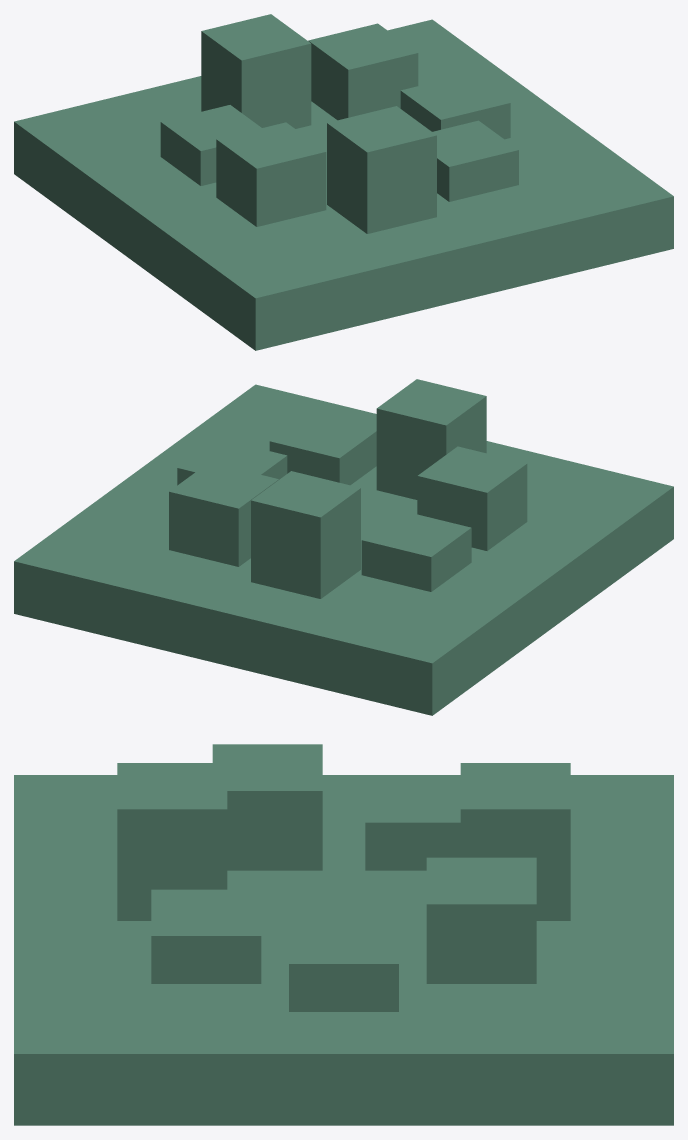
File: boreal_forest.glb
The picture shows the model from 3 angles, top to bottom: view 1: azimuth 30°, elevation 25°; view 2: azimuth 150°, elevation 25°; view 3: azimuth 270°, elevation 25°; orthographic projection. The views are drawn at different scales.
Parts seen in each view (by area): view 1: boreal_forest base, boreal_forest relief.006, boreal_forest relief.003, boreal_forest relief.005, boreal_forest relief.002, boreal_forest relief, boreal_forest relief.001, boreal_forest relief.004; view 2: boreal_forest base, boreal_forest relief.003, boreal_forest relief.006, boreal_forest relief.005, boreal_forest relief.002, boreal_forest relief.004, boreal_forest relief, boreal_forest relief.001; view 3: boreal_forest base, boreal_forest relief.006, boreal_forest relief.002, boreal_forest relief.003, boreal_forest relief.005, boreal_forest relief, boreal_forest relief.001, boreal_forest relief.004.
Part boxes in pixels (x1,y1,x2,y2): boreal_forest base: (14,19,673,350); boreal_forest relief.006: (327,106,436,233); boreal_forest relief.003: (201,14,311,128); boreal_forest relief.005: (216,122,326,226); boreal_forest relief.002: (308,23,418,120); boreal_forest relief: (432,120,518,201); boreal_forest relief.001: (400,73,510,139); boreal_forest relief.004: (160,105,261,185); boreal_forest base: (14,384,673,715); boreal_forest relief.003: (251,471,360,598); boreal_forest relief.006: (376,379,486,499); boreal_forest relief.005: (417,446,527,550); boreal_forest relief.002: (169,462,278,566); boreal_forest relief.004: (361,510,471,591); boreal_forest relief: (269,412,376,485); boreal_forest relief.001: (177,438,287,485); boreal_forest base: (14,775,673,1125); boreal_forest relief.006: (117,763,227,920); boreal_forest relief.002: (426,857,536,983); boreal_forest relief.003: (460,763,570,920); boreal_forest relief.005: (212,744,322,870); boreal_forest relief: (151,889,261,983); boreal_forest relief.001: (289,917,398,1011); boreal_forest relief.004: (365,776,460,870).
Bounding box in the file's own units: 3 × 0.92 × 3.
